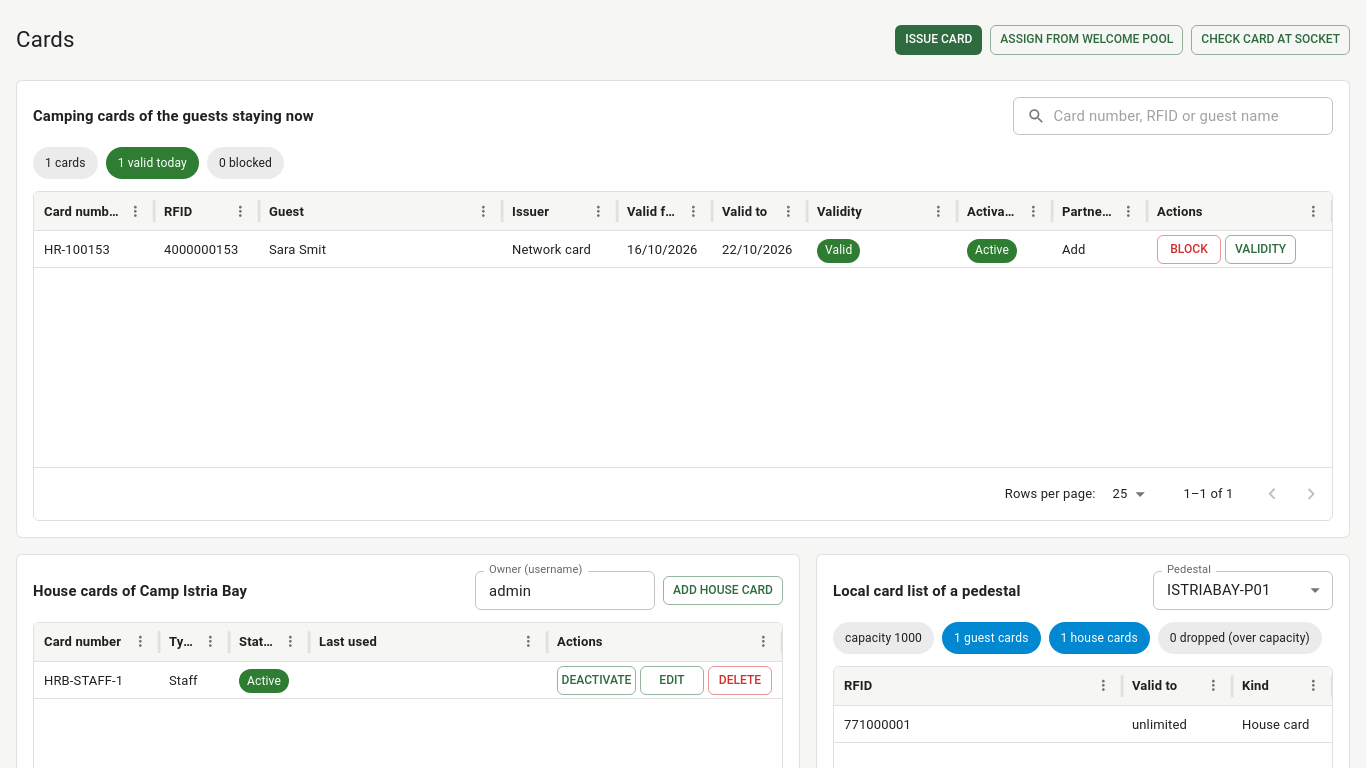
Test: cards tab › hands a welcome pool card to a guest staying now for the rest of the stay
The image size is (1366, 768).
Click the button with test id "assign-welcome" at (1087, 40), box [990,25,1183,54]
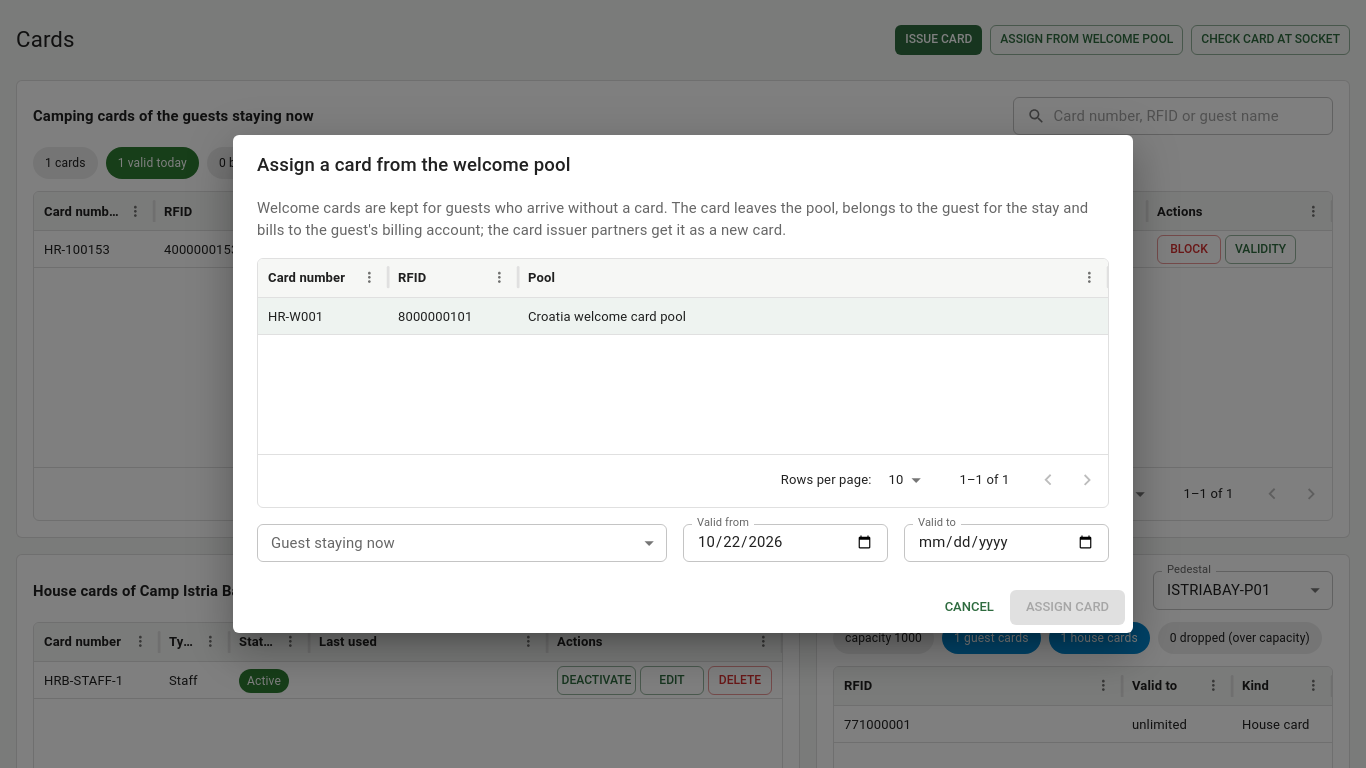
Expected: the text "HR-W001" is shown, [268,309,323,324]
Click the dropdown named "Guest staying now" at (462, 543), box [257,524,667,562]
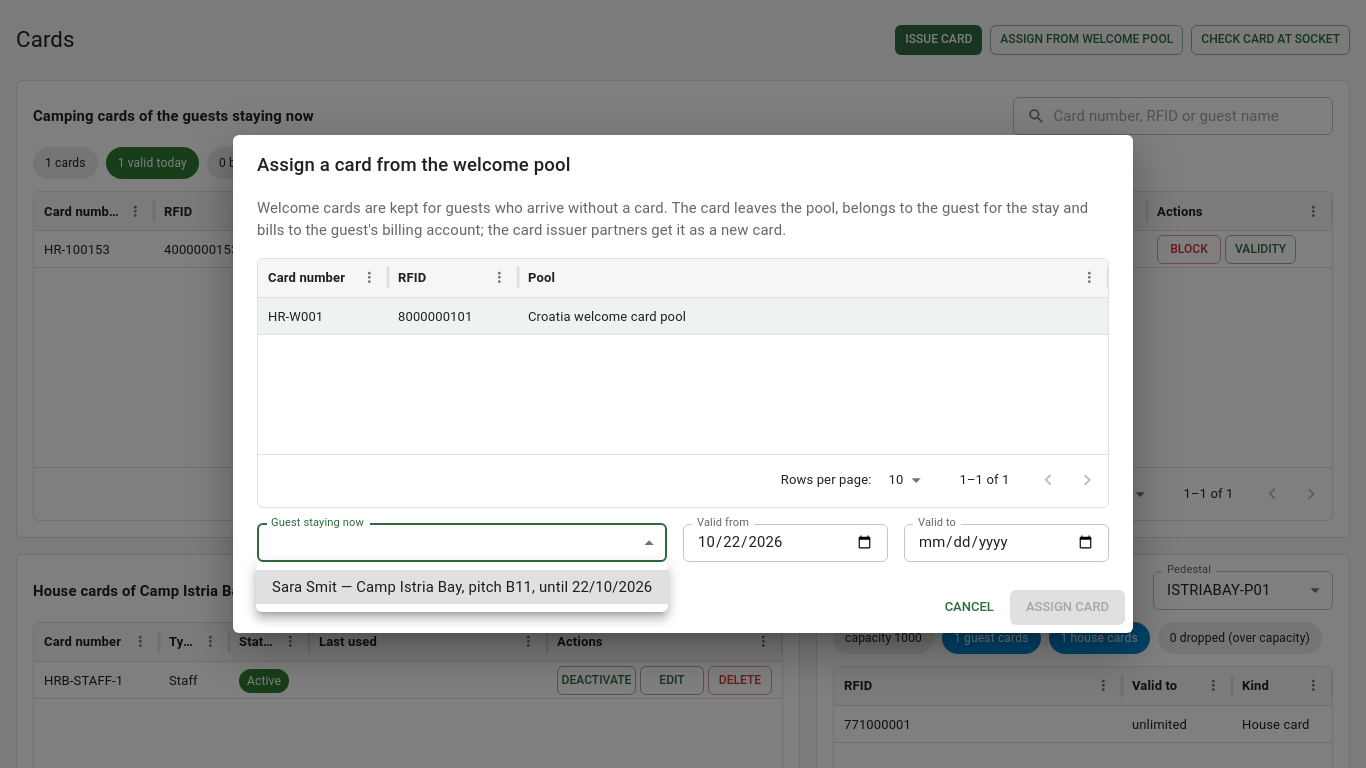
Click the option "Sara Smit — Camp Istria Bay, pitch B11, until 22/10/2026" at (462, 587), box [256,570,668,604]
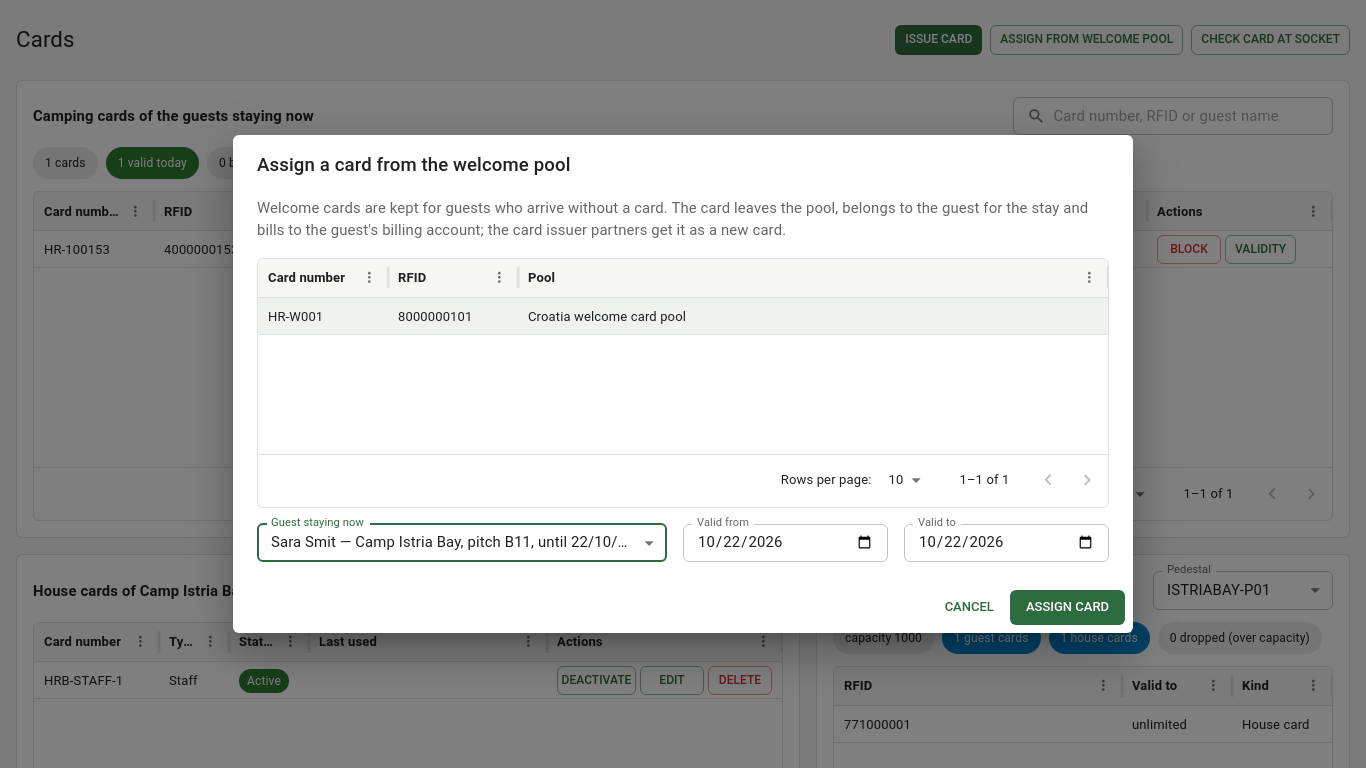
Click the button with test id "welcome-assign" at (1067, 607), box [1010,590,1125,625]
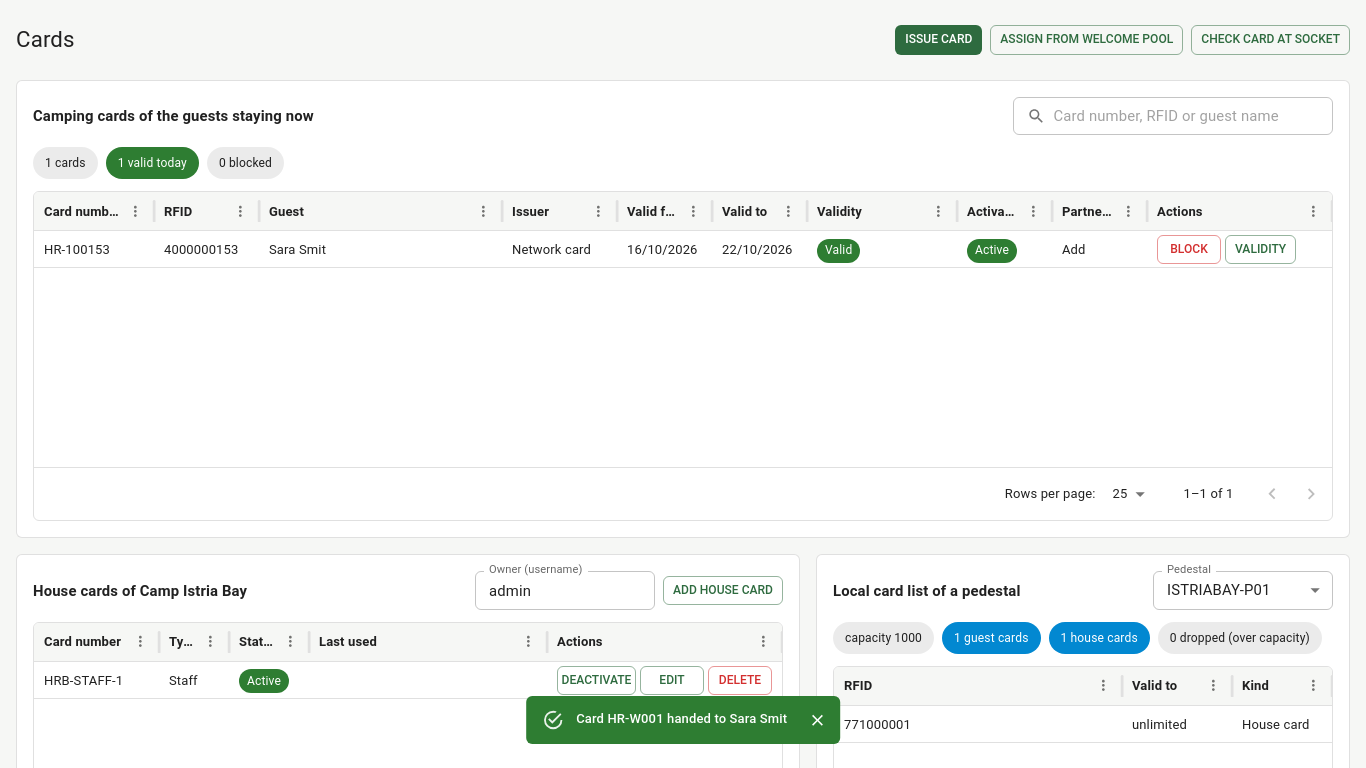
Expected: the message with test id "notification" reads "Card HR-W001 handed to Sara Smit", [576,711,787,726]
